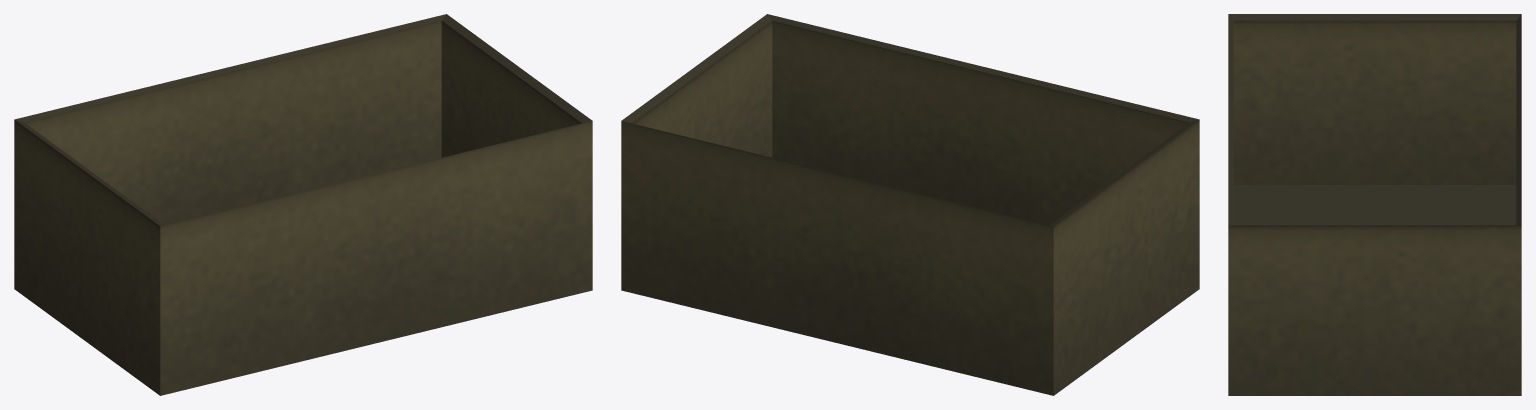
File: Boxint1.fbx
The picture shows the model from 3 angles, left to right: view 1: azimuth 30°, elevation 25°; view 2: azimuth 150°, elevation 25°; view 3: azimuth 270°, elevation 25°; orthographic projection.
Parts seen in each view (by area): view 1: BoxInt1; view 2: BoxInt1; view 3: BoxInt1.
Boxes of the visible parts, x1,y1,x2,y2 form: BoxInt1: (14,14,592,395); BoxInt1: (621,14,1199,395); BoxInt1: (1228,14,1521,395).
Size of the model in its own units: 42.52 by 15.93 by 24.87.
